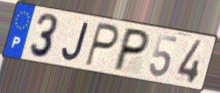3: (28, 13, 61, 60)
4: (175, 38, 203, 85)
5: (148, 33, 179, 79)
J: (60, 21, 91, 63)
P: (110, 26, 152, 73), (83, 21, 121, 70)
